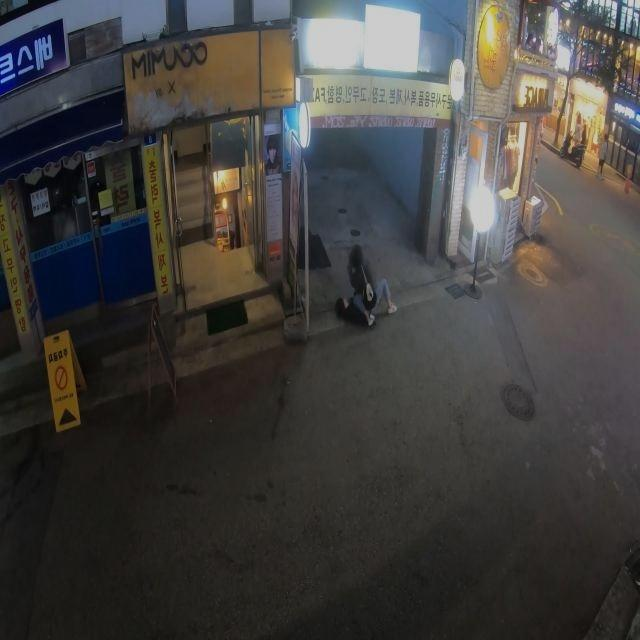fight: (332, 245, 397, 329)
non-fight: (597, 132, 609, 178)
